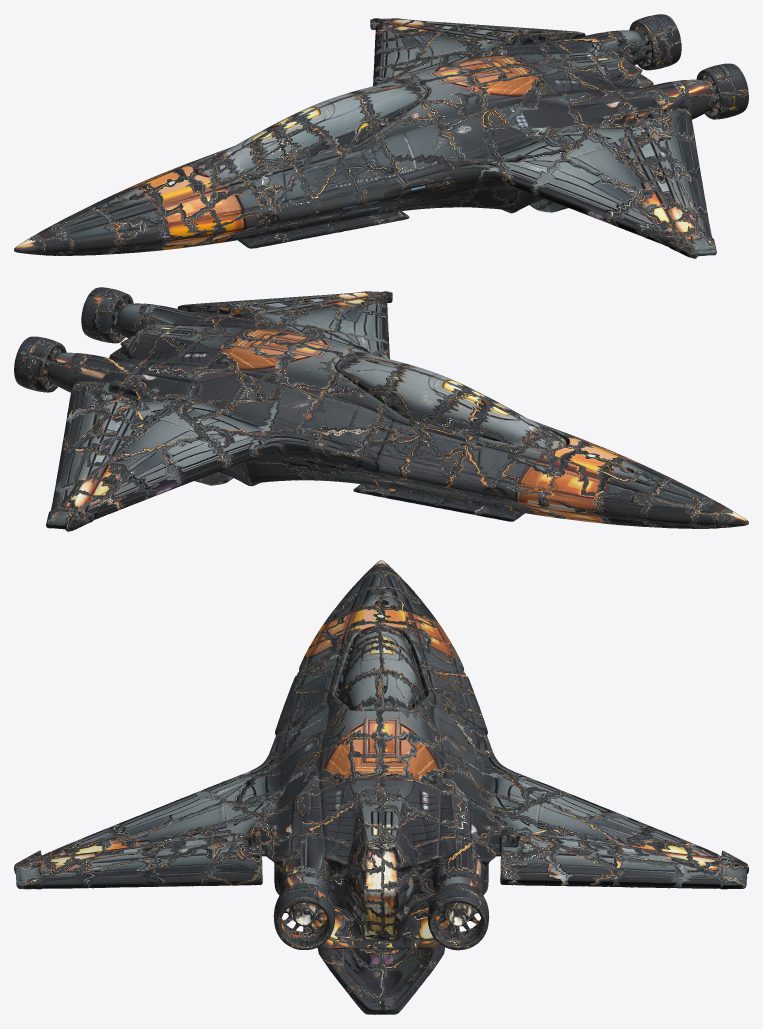
The model's file is HumanFriendlStarFighter_lod0.glb.
3 views of the same model, one above another, from view 1: azimuth 30°, elevation 25°; view 2: azimuth 150°, elevation 25°; view 3: azimuth 270°, elevation 25° (orthographic). The views are drawn at different scales.
Parts seen in each view (by area): view 1: mesh; view 2: mesh; view 3: mesh.
Part boxes in pixels (x1,y1,x2,y2): mesh: (14, 14, 748, 258); mesh: (14, 287, 748, 531); mesh: (14, 560, 748, 1014).
Size of the model in its own units: 1.9 by 0.4211 by 1.53.
Materials: 1 (1 with a texture image).
